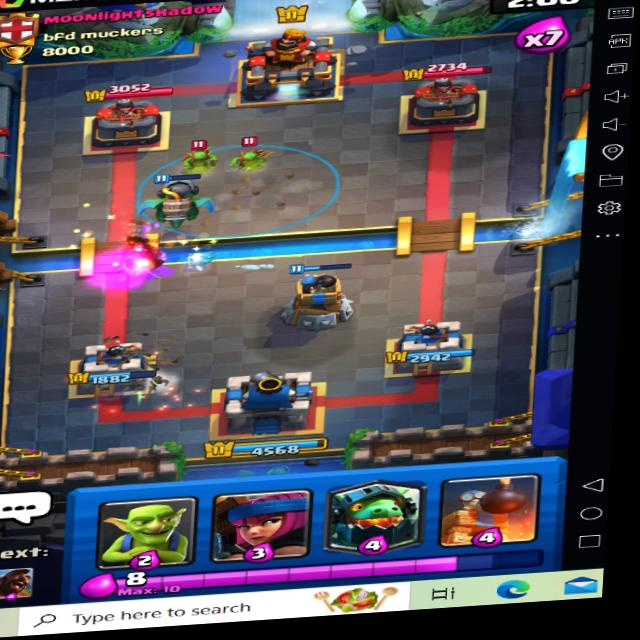spear-goblin: (176, 139, 218, 175), (230, 136, 273, 170)
